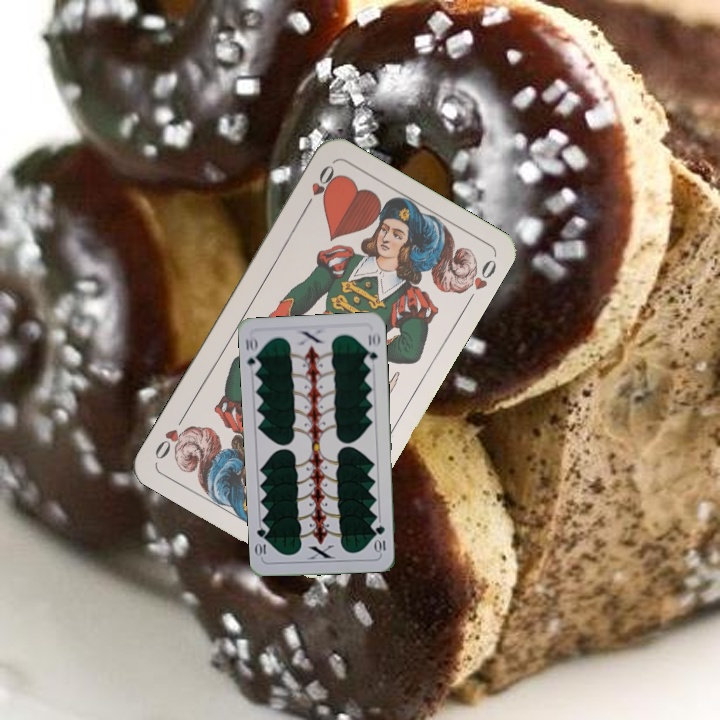G10: (241, 333, 262, 373), (372, 521, 388, 555)
HO: (299, 160, 339, 213)
